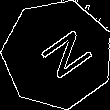N_SW: (25, 24, 90, 85)
